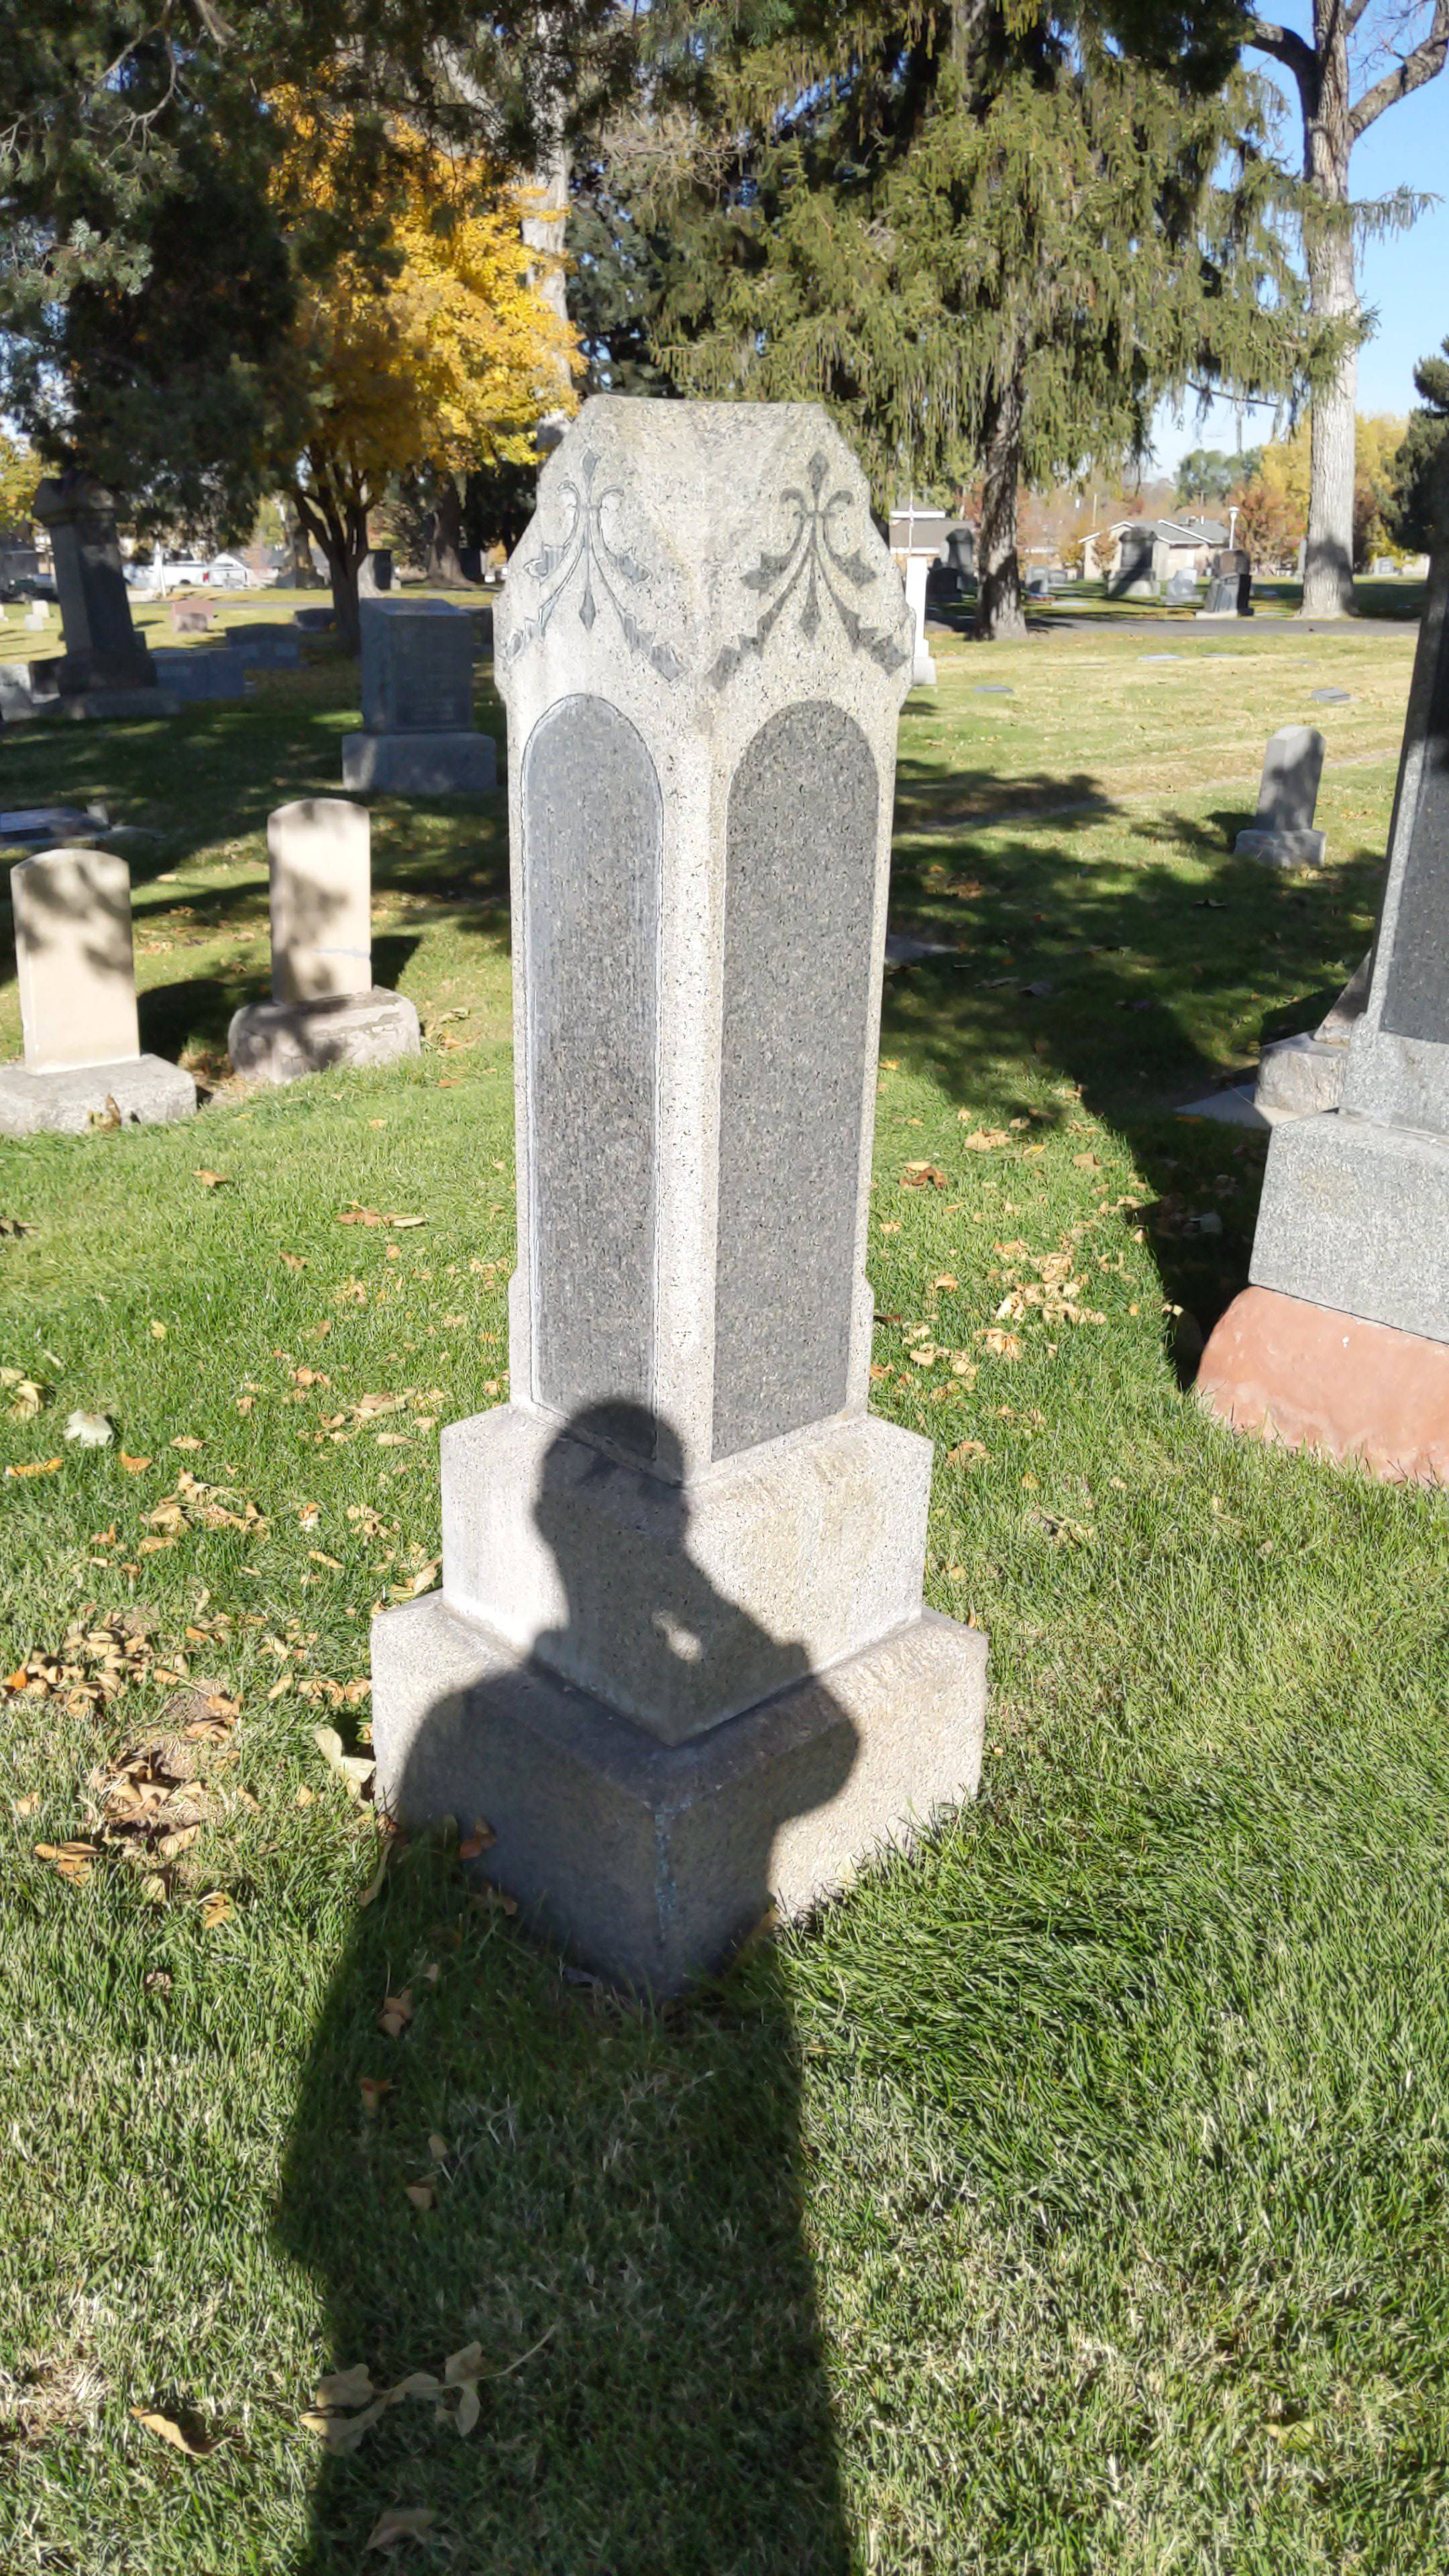obelisk: (446, 384, 934, 1737)
